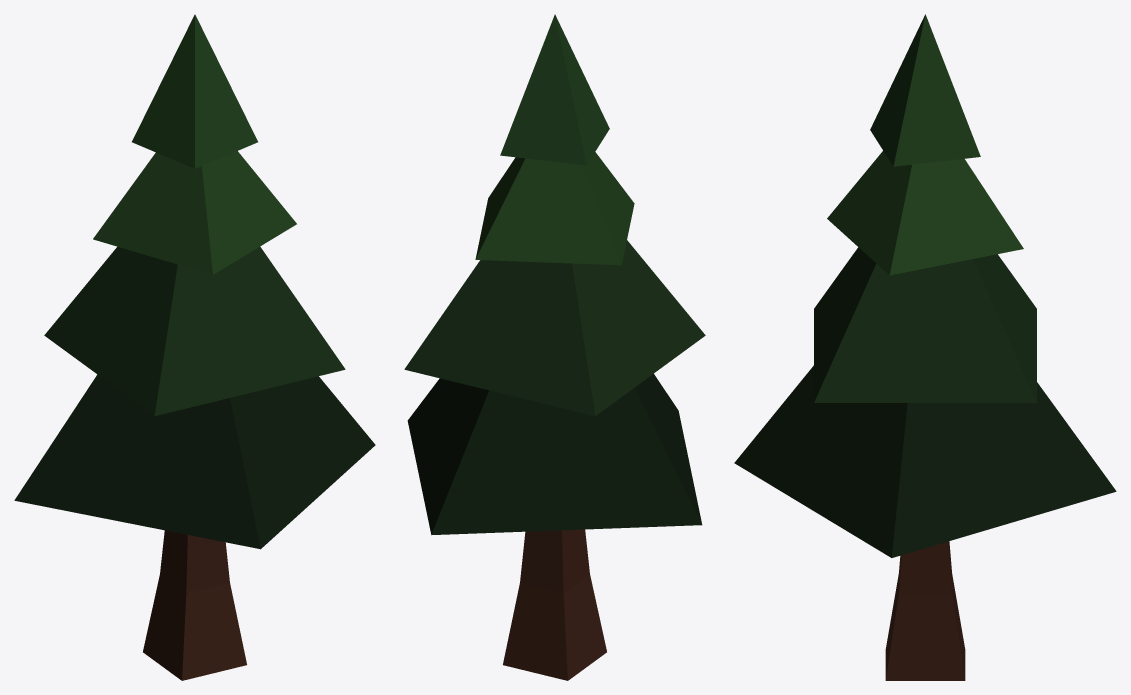
Rendered from PINO.FBX.
3 views of the same model, side by side, from view 1: azimuth 30°, elevation 25°; view 2: azimuth 150°, elevation 25°; view 3: azimuth 270°, elevation 25° (orthographic).
Parts seen in each view (by area): view 1: pino013; view 2: pino013; view 3: pino013.
Boxes of the visible parts, left/top/right/bottom form: pino013: left=14, top=14, right=375, bottom=680; pino013: left=404, top=14, right=705, bottom=680; pino013: left=734, top=14, right=1116, bottom=680.
Size of the model in its own units: 50.13 by 94.1 by 50.13.
